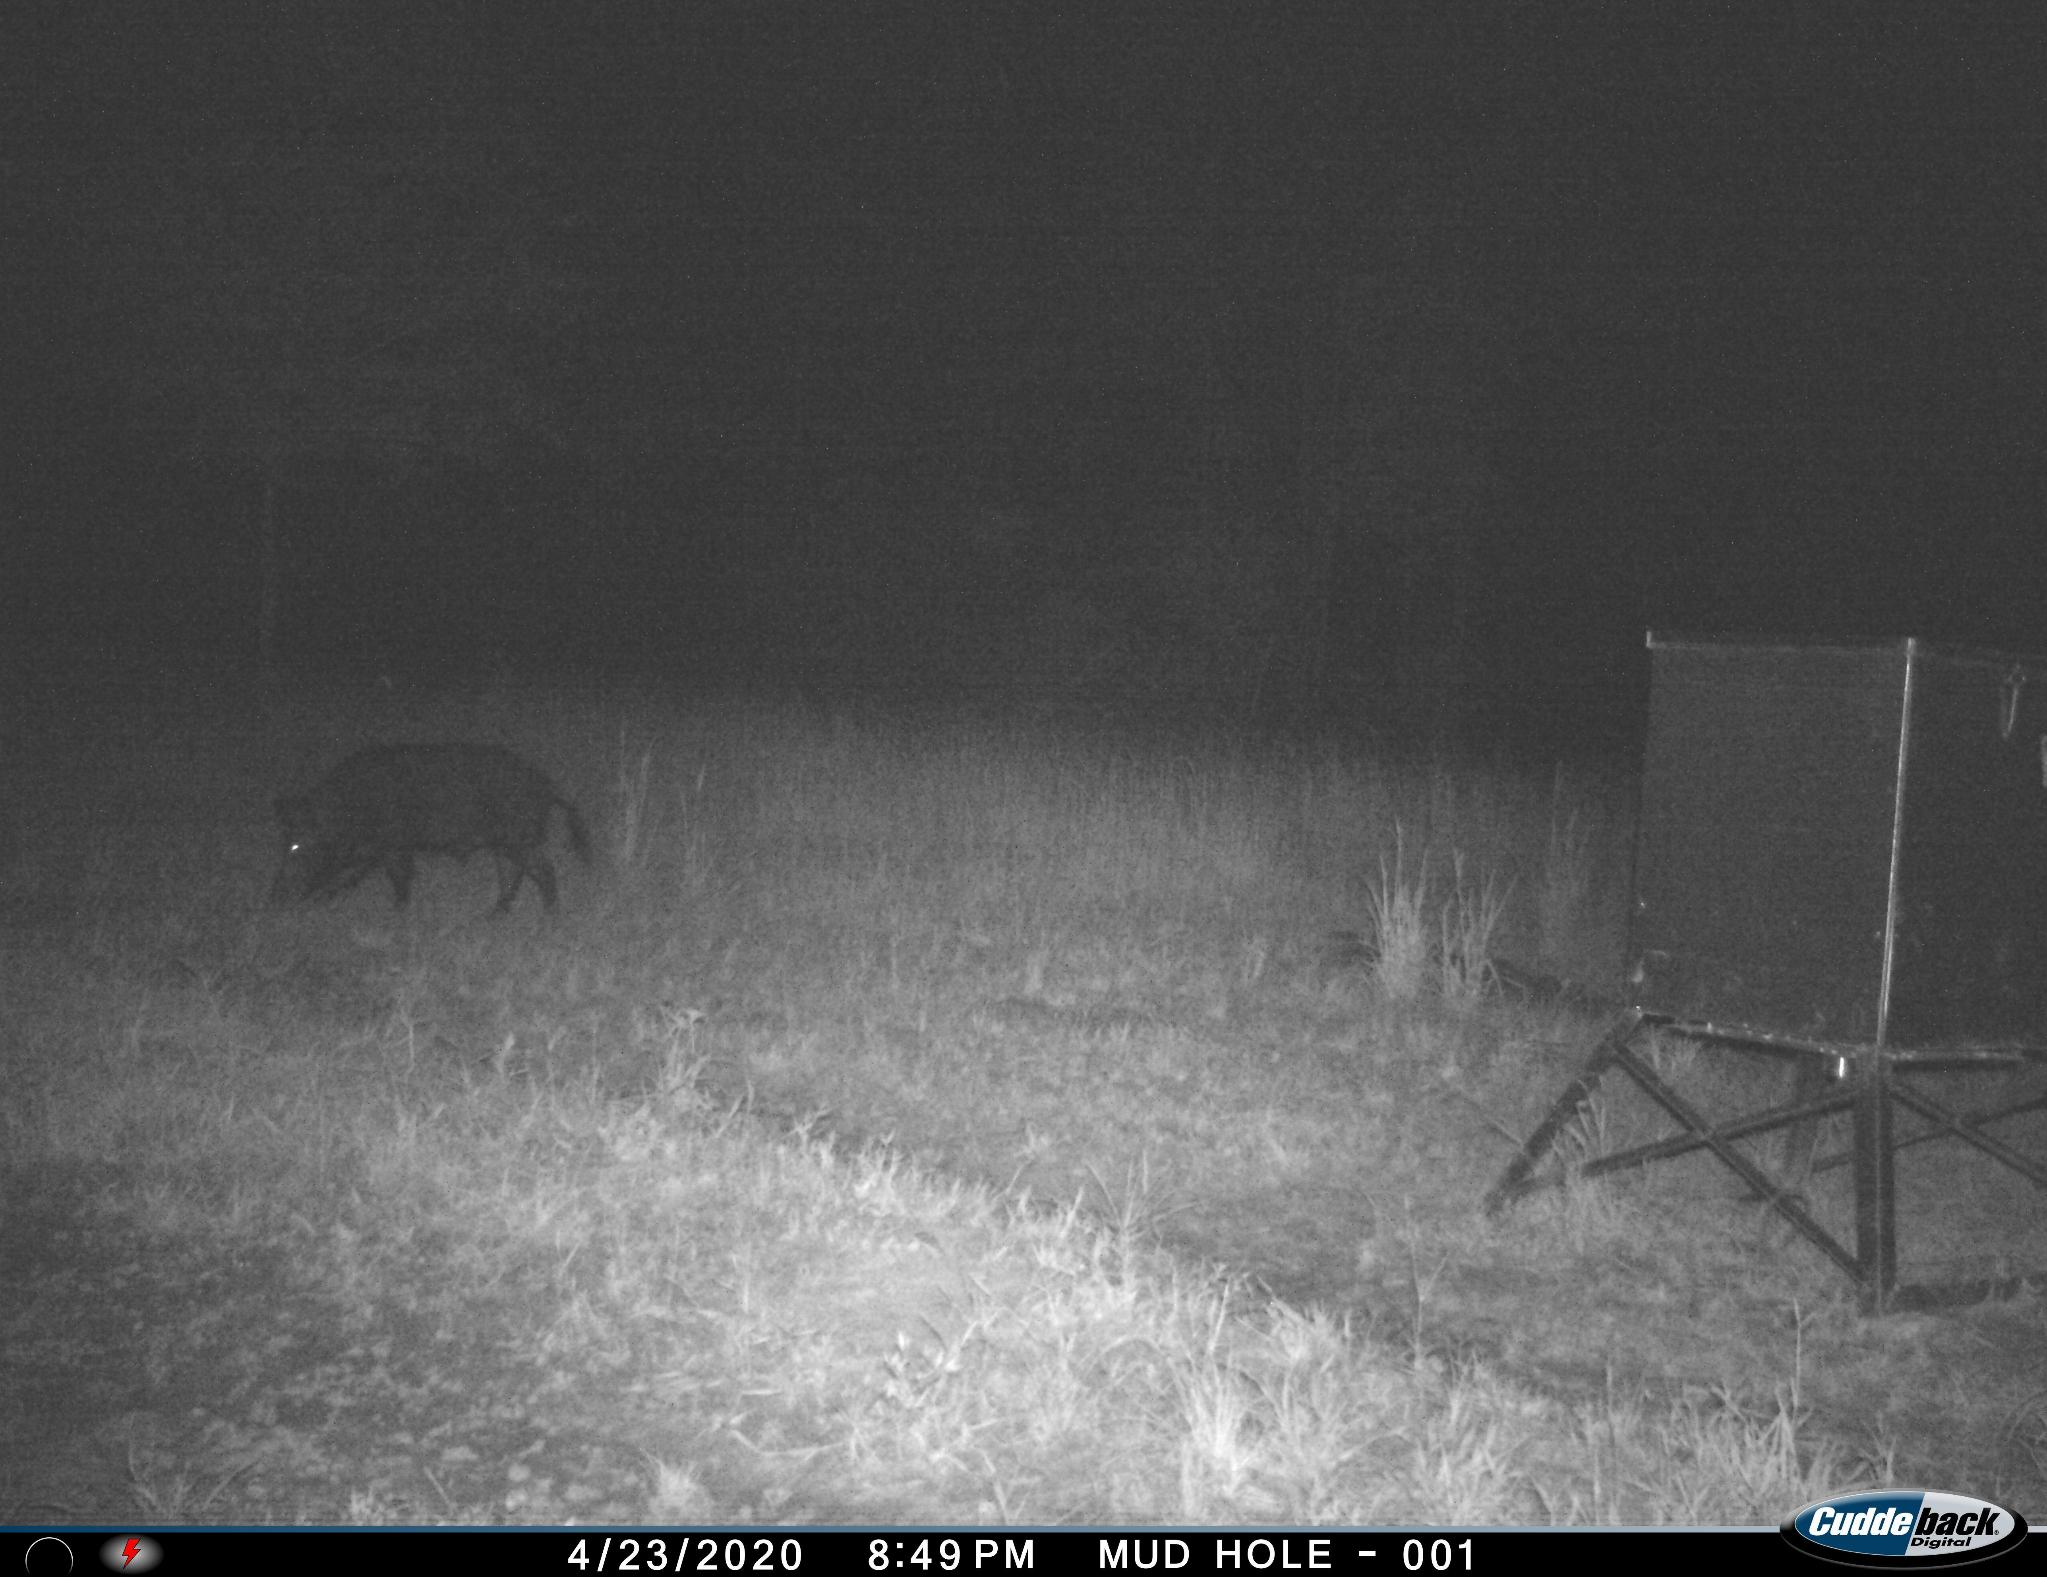Hog: (273, 729, 603, 948)
